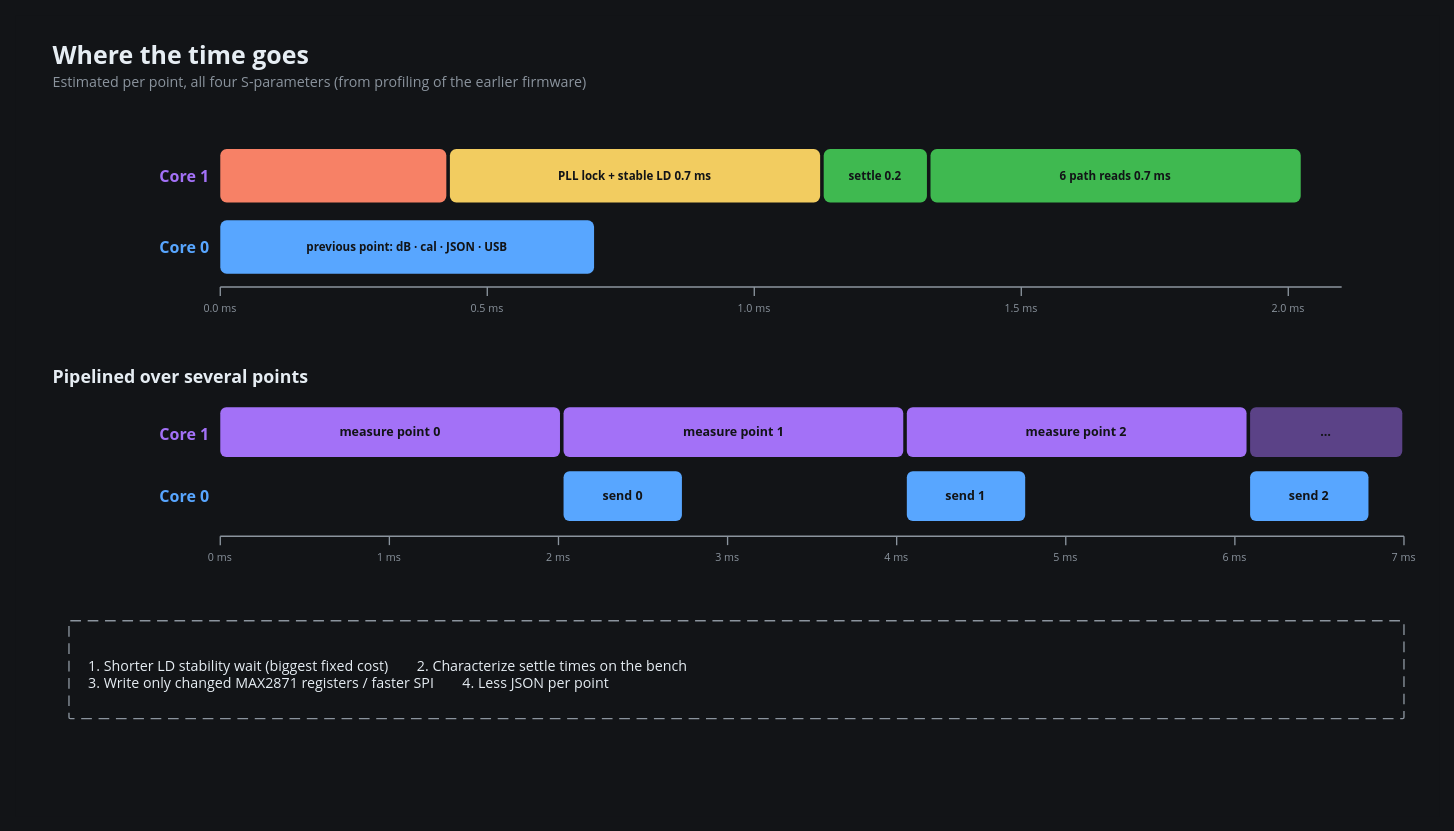
Some shapes in this 1454 by 831 pixel diagram are drawn without their labels. Here are the shapes that lost their labels. From the top down, the box of each, then its label:
(220, 149, 446, 202): Retune 0.43 ms
(68, 620, 1404, 719): Speed levers (next steps)
